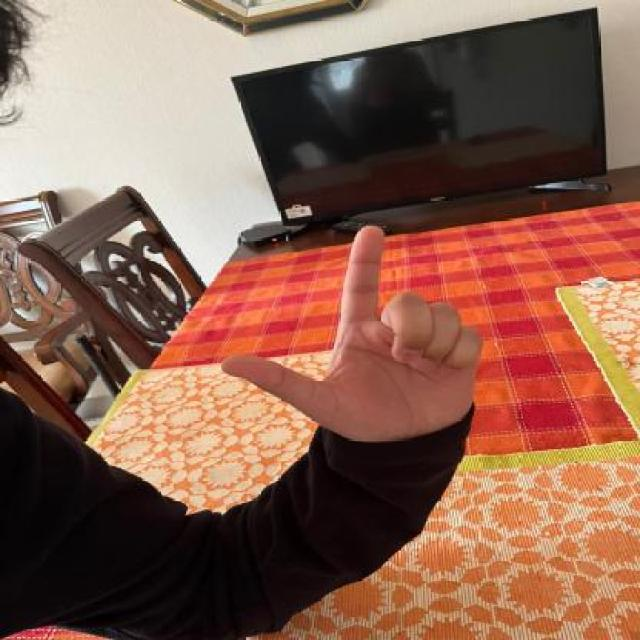L: (225, 223, 486, 435)
